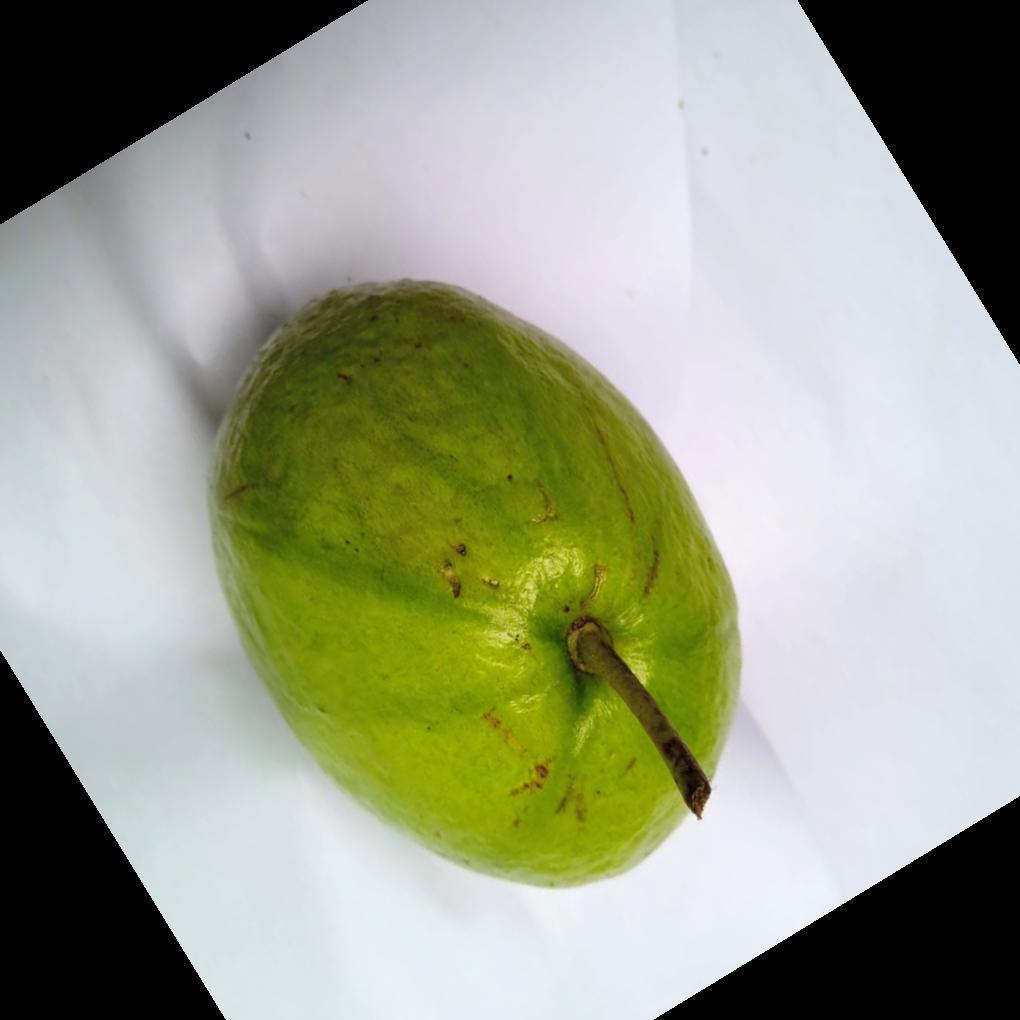FreshGuava: (208, 279, 743, 894)
